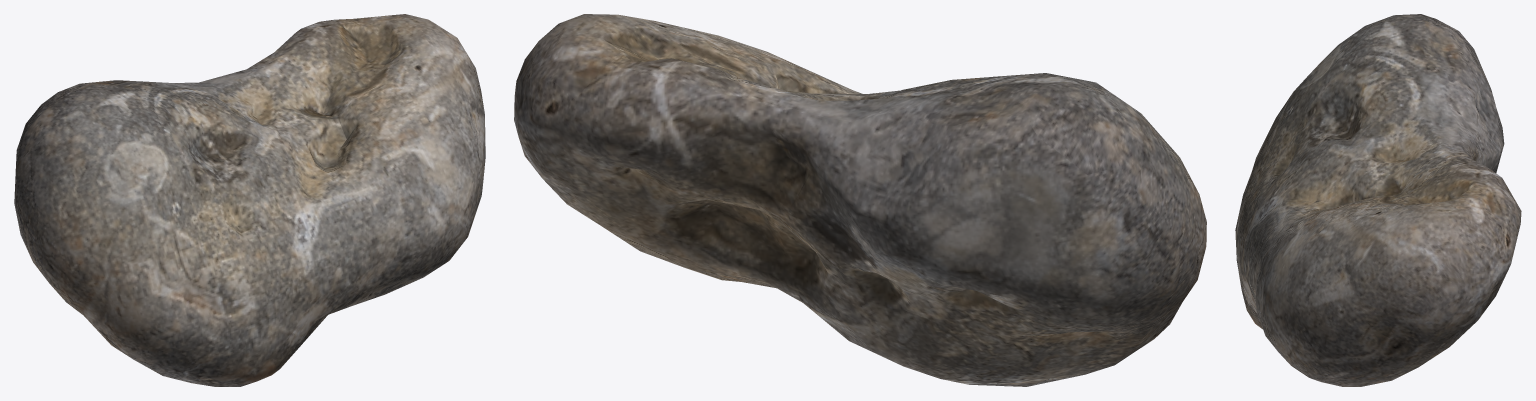
Rendered from wellstone.glb.
3 views of the same model, side by side, from view 1: azimuth 30°, elevation 25°; view 2: azimuth 150°, elevation 25°; view 3: azimuth 270°, elevation 25° (orthographic). The views are drawn at different scales.
Parts seen in each view (by area): view 1: Object_2; view 2: Object_2; view 3: Object_2.
Part boxes in pixels (left/top/right/bottom): Object_2: left=14, top=14, right=485, bottom=386; Object_2: left=514, top=14, right=1206, bottom=386; Object_2: left=1235, top=14, right=1521, bottom=386.
Size of the model in its own units: 0.0647 by 0.0363 by 0.0344.
1 material, 1 textured.
